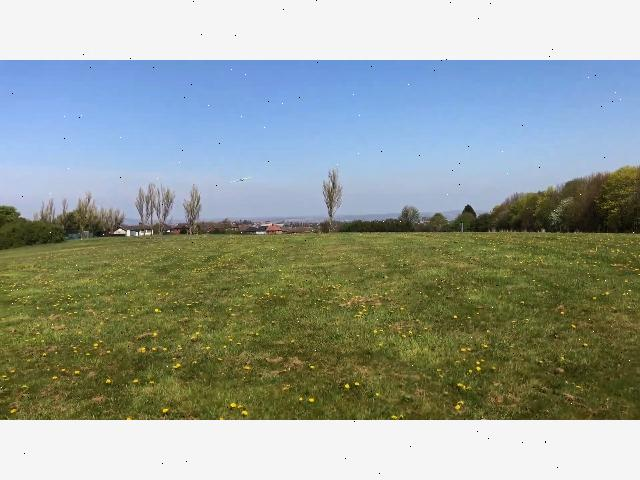Anti-Drone: (226, 172, 266, 187)
